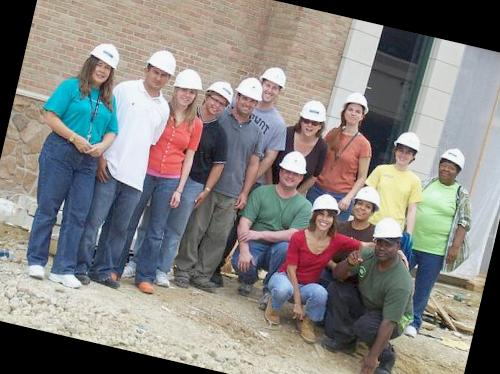person: (7, 32, 132, 284), (73, 40, 182, 290), (381, 139, 486, 344), (122, 62, 214, 294), (148, 78, 239, 294), (312, 209, 431, 374), (188, 79, 273, 295), (263, 192, 369, 345), (225, 147, 324, 308), (304, 87, 386, 223), (239, 65, 295, 182), (371, 125, 432, 227), (280, 94, 338, 160)
